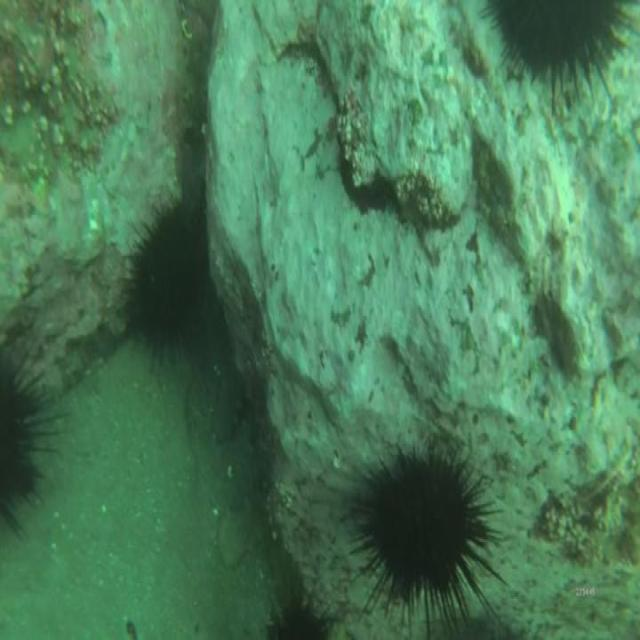echinus: (364, 455, 478, 609), (487, 3, 635, 98), (134, 213, 206, 354), (1, 384, 44, 518)
